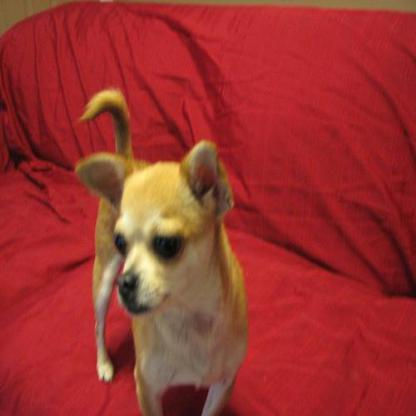dog: (71, 84, 247, 415)
